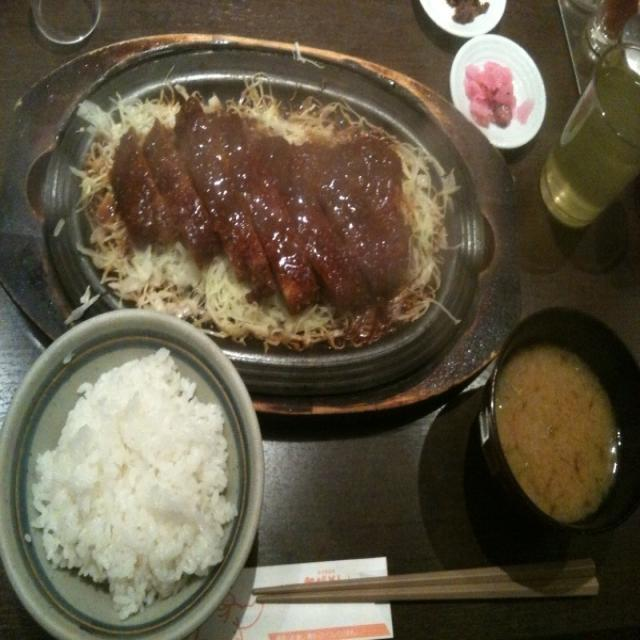Rice: (0, 315, 266, 635)
